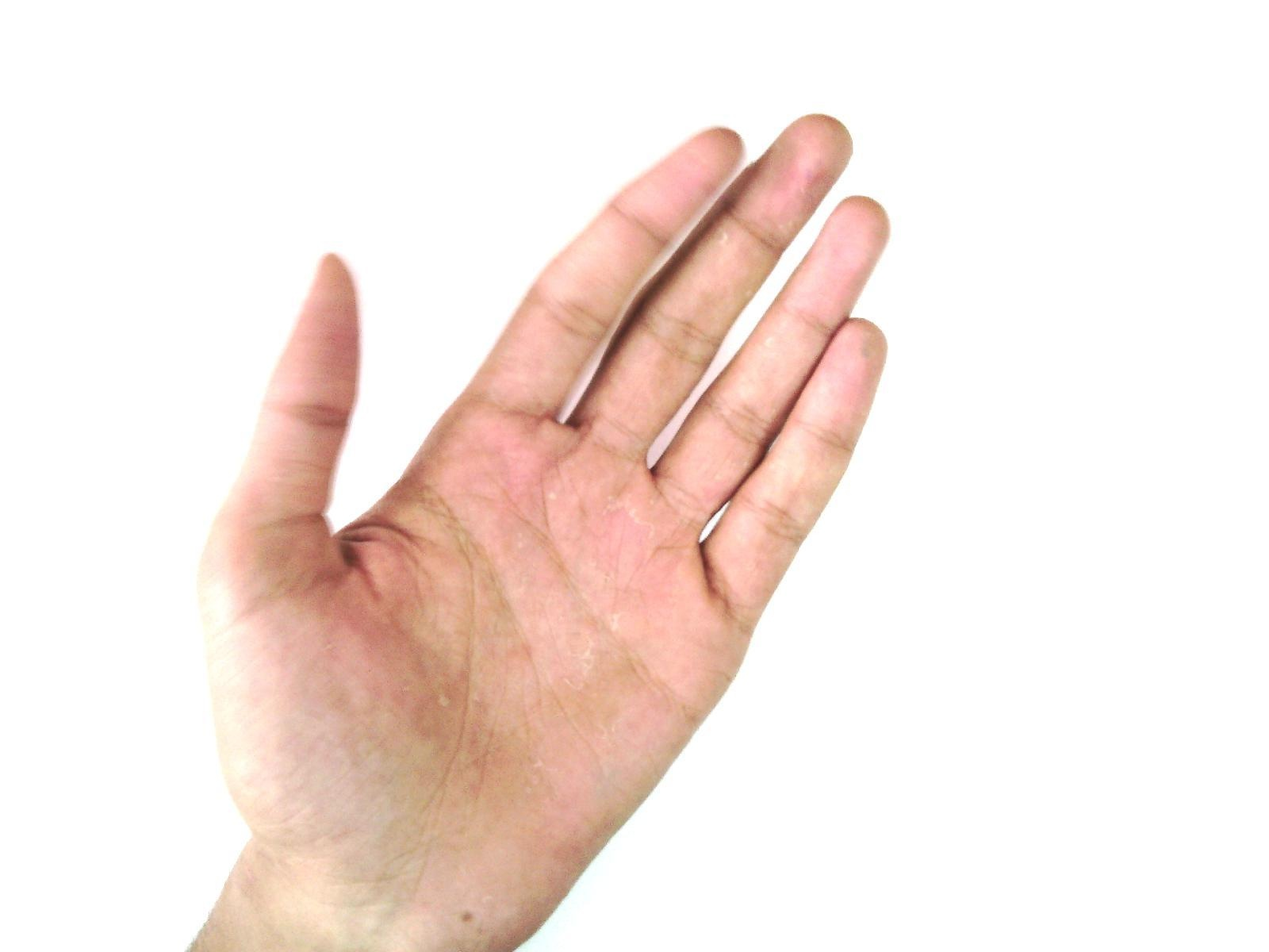open_palm: (187, 112, 895, 950)
